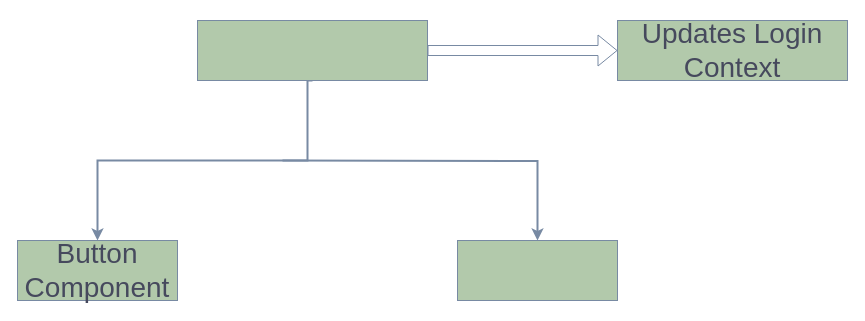
Image size: 865x321. Some labels were removed from this diagram. The box of each missing label's shape, as (x1, y1, x2, y2) in pixels:
Form Component: (456, 240, 618, 300)
Login Component: (196, 20, 428, 80)
